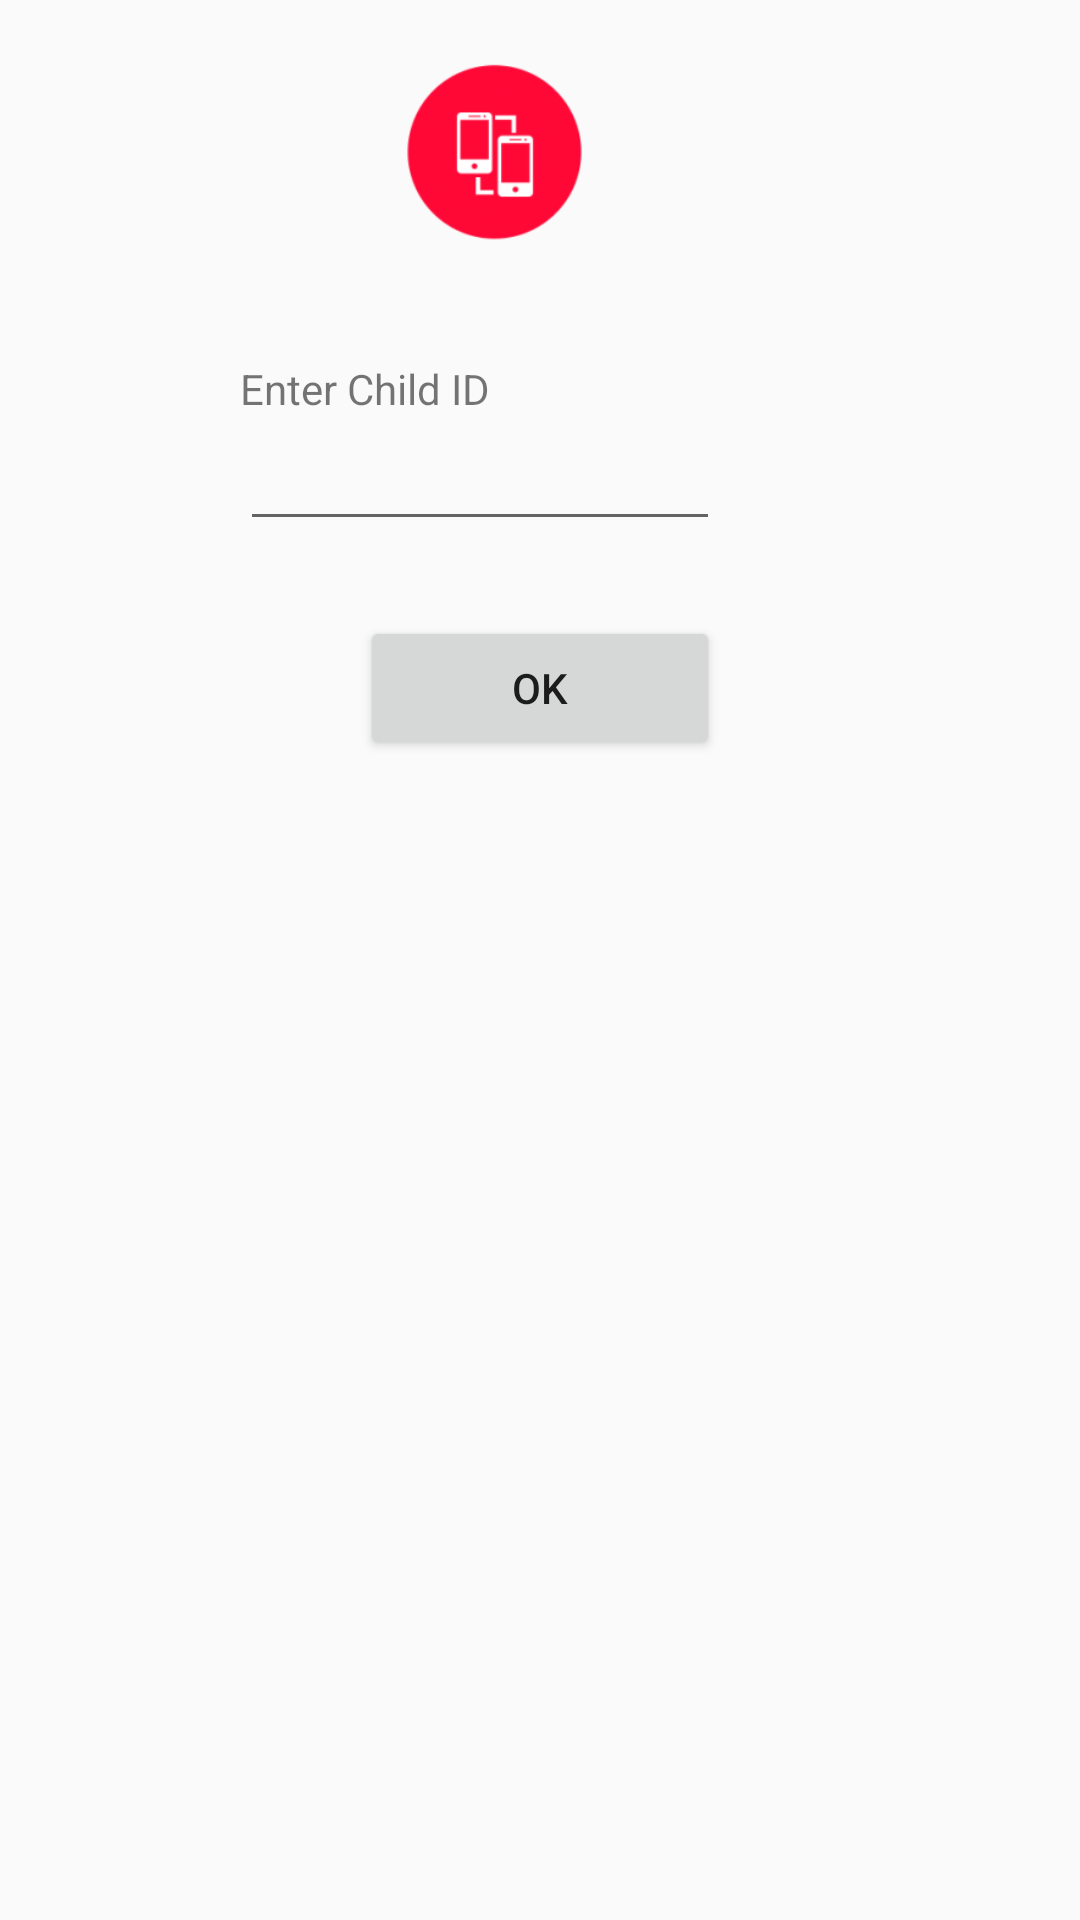

Screen size 1080w x 1920h. Icon name, then its box in pixels as (x1, y1, x2, y2):
sync: (407, 64, 582, 240)
